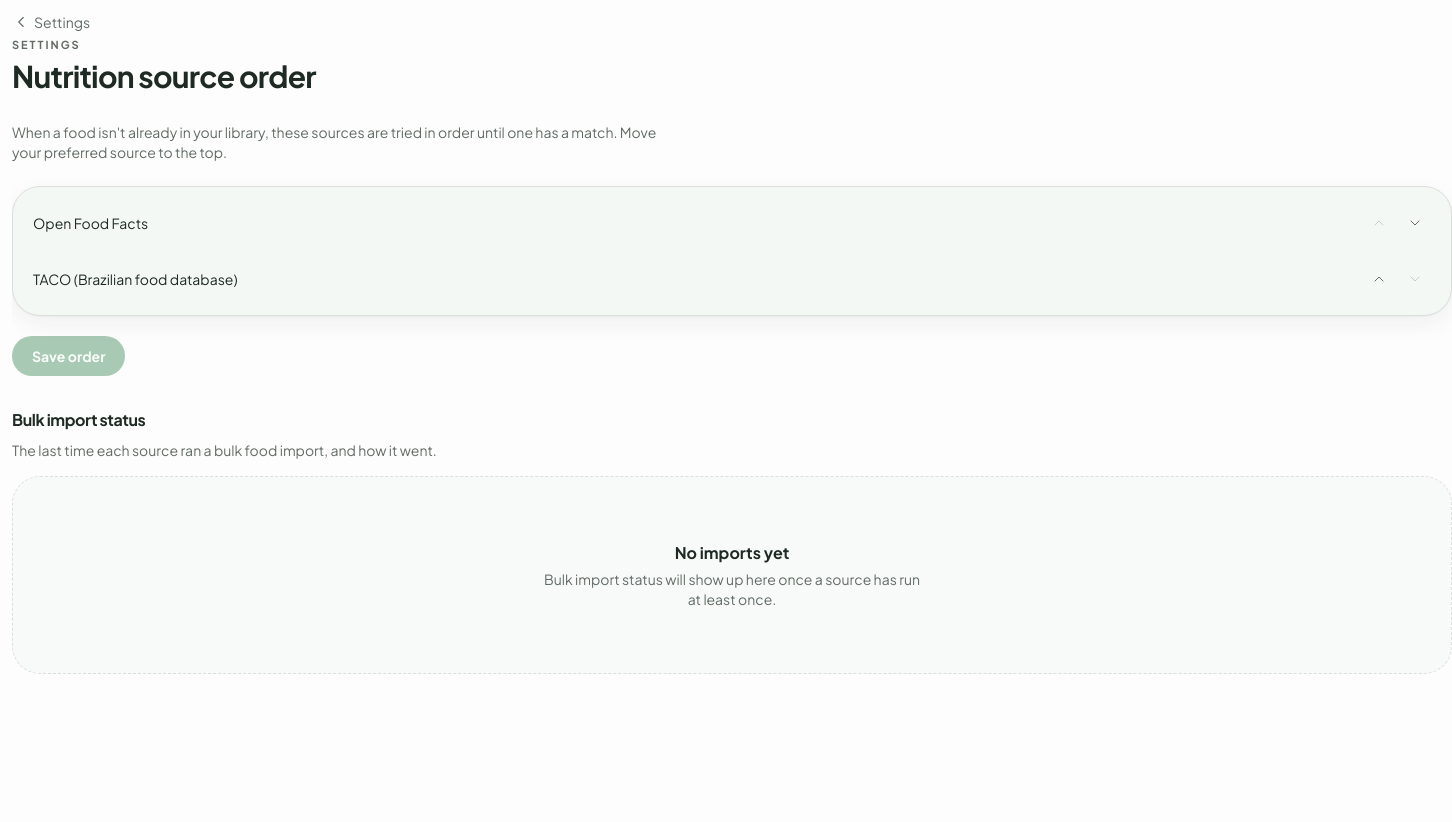
Test: SourcePrecedence › shows an error message when saving fails
expect the text "Open Food Facts" is shown: met, box [33,214,148,232]
What coordinates should you click on to do the following:
click the button named "Move Open Food Facts down"
I would click on:
 (1415, 222)
Its box is [1399,206,1431,238].
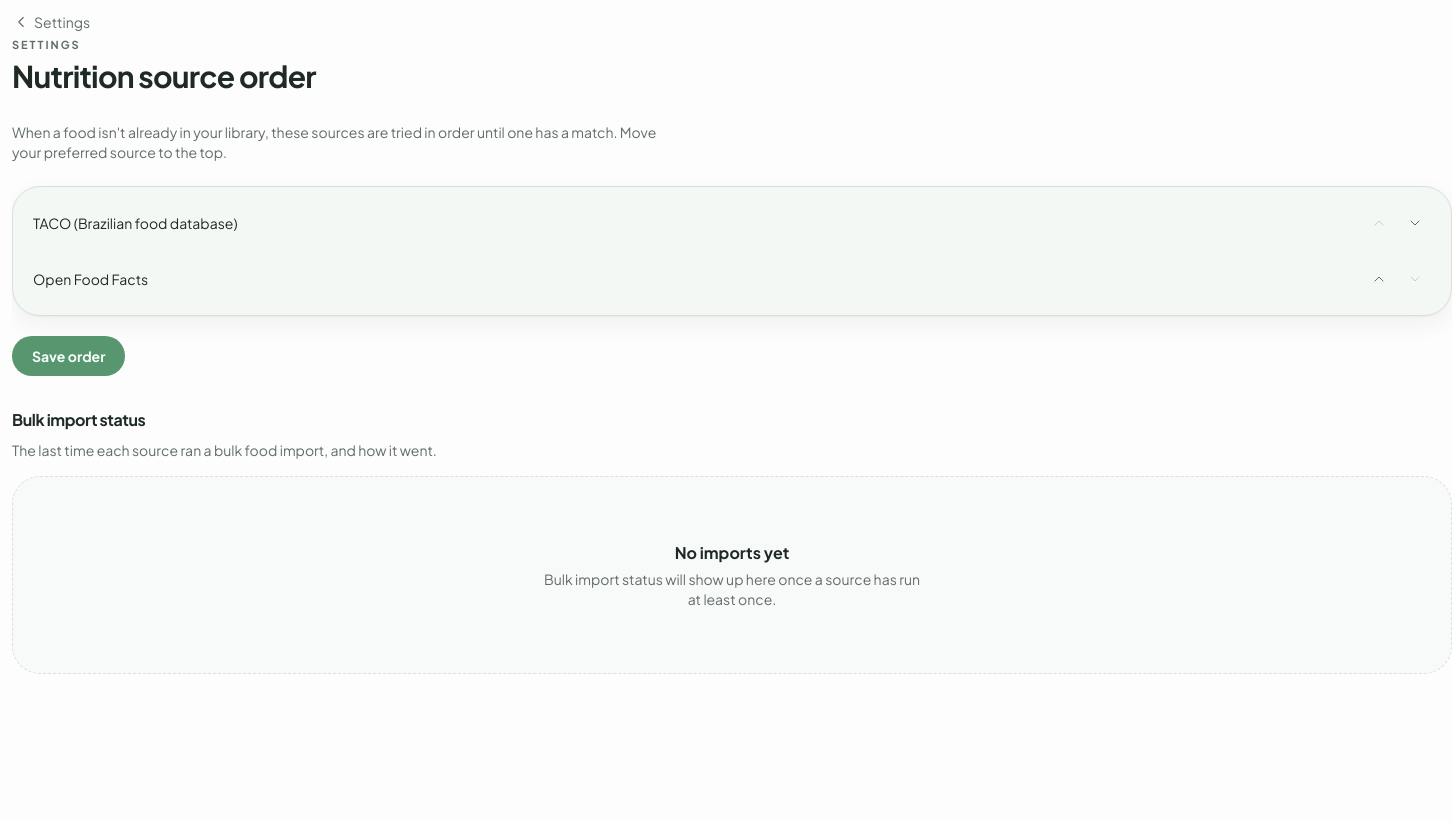
What coordinates should you click on to do the following:
click the button "Save order"
I would click on:
 (69, 356)
Its box is [12,336,125,376].
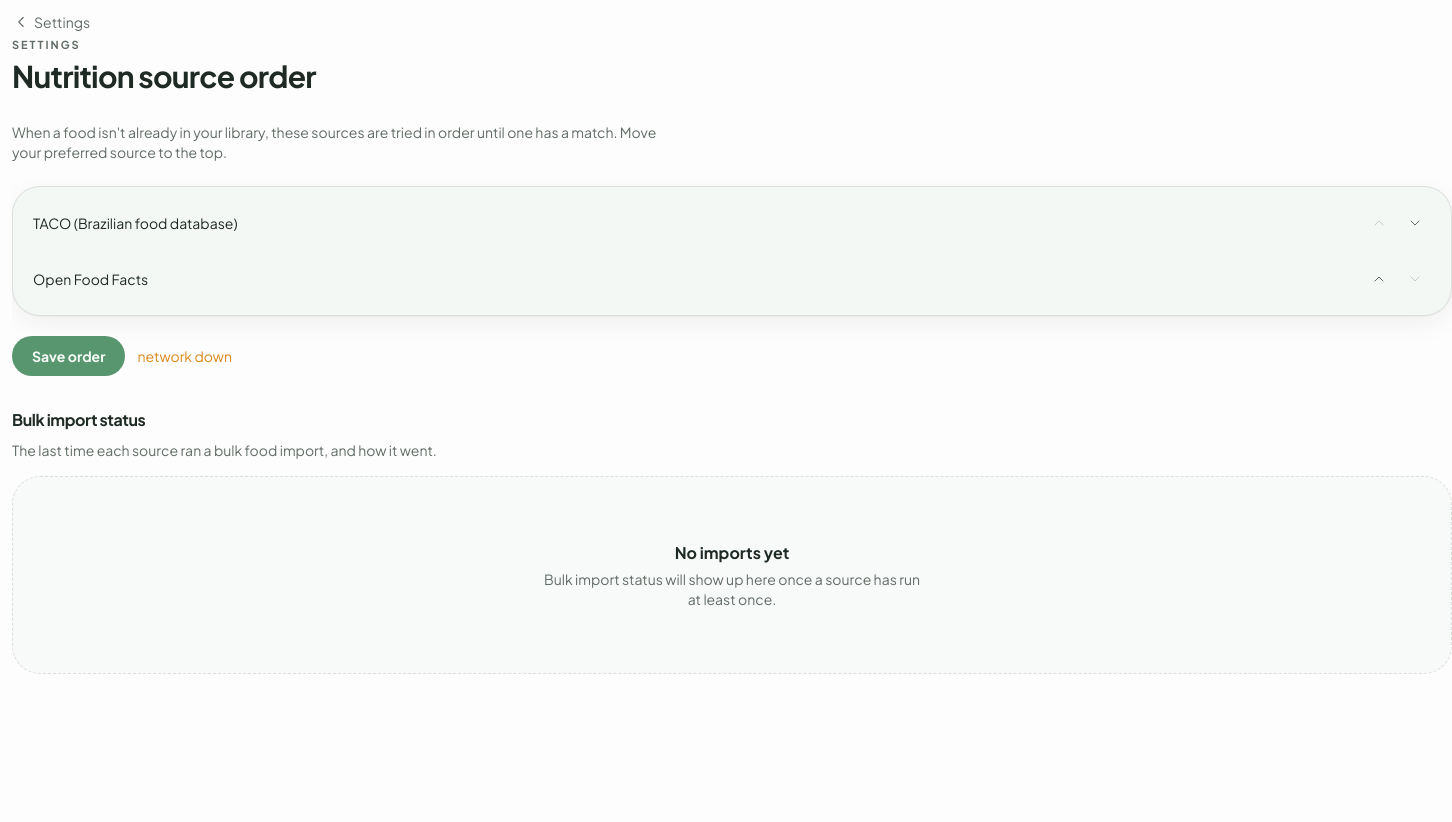
expect the text "network down" is shown: met, box [137,346,232,366]
